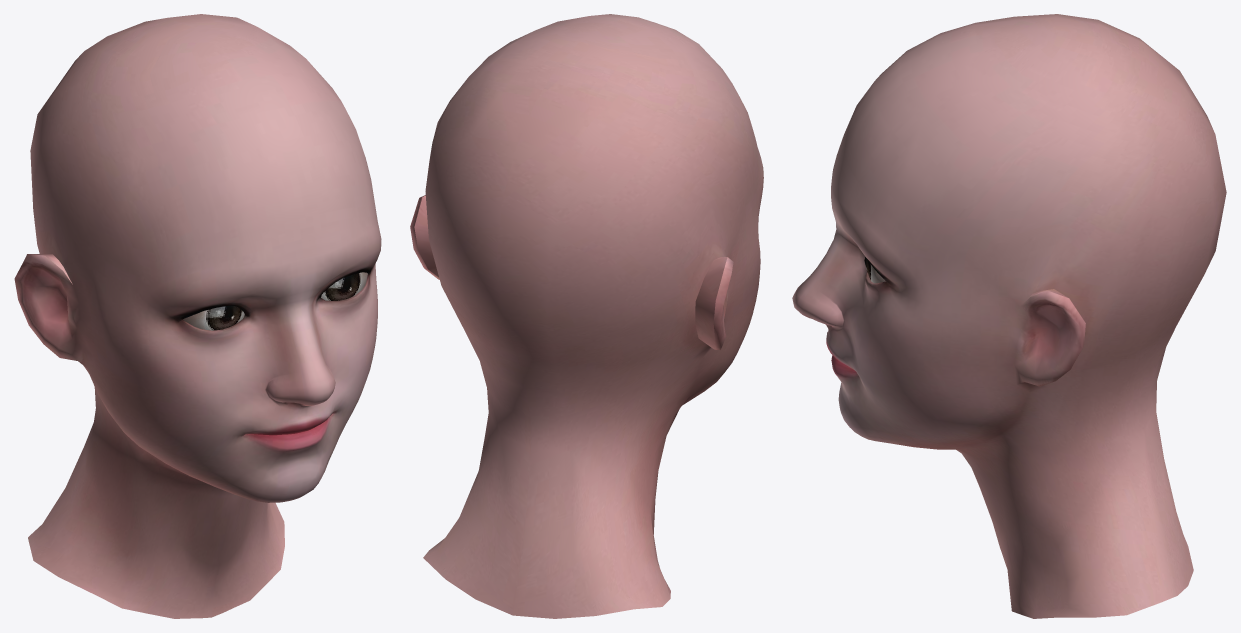
File: base-women.glb
3 renders of one model, left to right at view 1: azimuth 30°, elevation 25°; view 2: azimuth 150°, elevation 25°; view 3: azimuth 270°, elevation 25°, orthographic. The views are drawn at different scales.
Parts seen in each view (by area): view 1: Women_Head, Women_EyeRight, Women_EyeLeft; view 2: Women_Head; view 3: Women_Head.
Boxes of the visible parts, x1,y1,x2,y2 form: Women_Head: [14, 14, 381, 618]; Women_EyeRight: [183, 305, 244, 330]; Women_EyeLeft: [321, 272, 367, 300]; Women_Head: [410, 14, 763, 618]; Women_Head: [792, 14, 1226, 618].
Size of the model in its own units: 0.1842 by 0.3109 by 0.2141.
3 materials, 3 textured.
